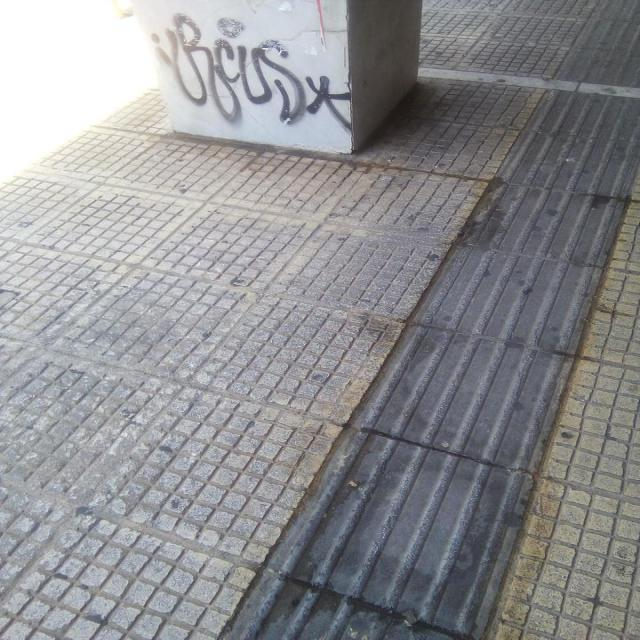nonspitting: (150, 14, 351, 133)
